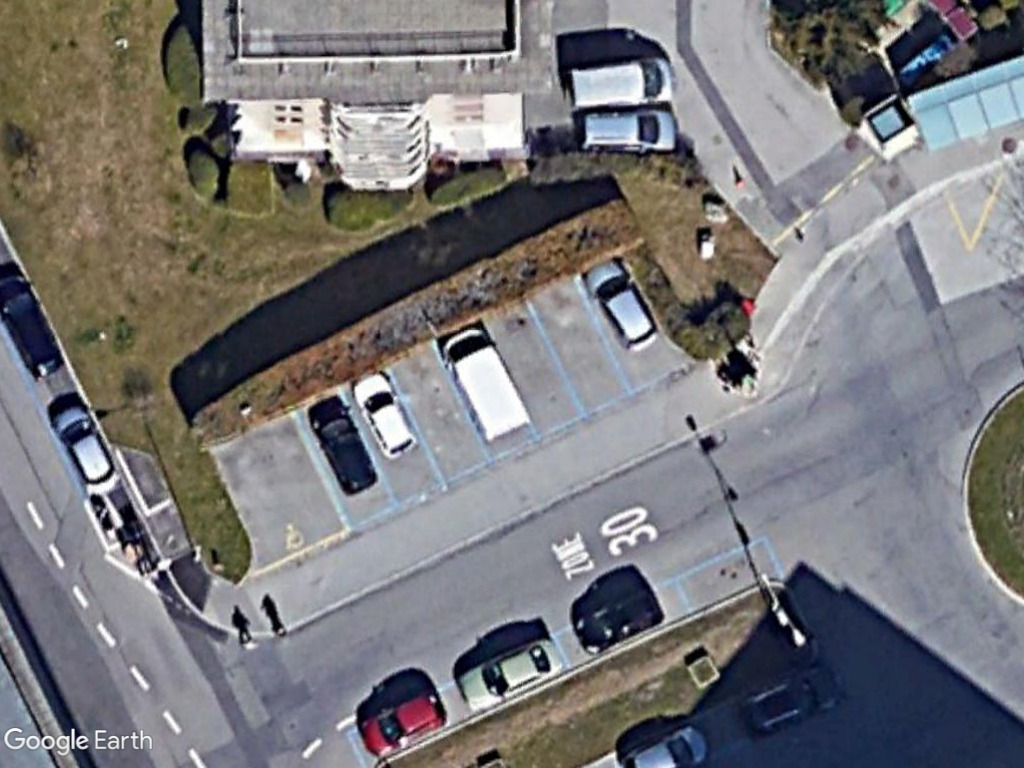car: (459, 635, 560, 715), (582, 257, 658, 352), (308, 403, 380, 497), (49, 406, 119, 495), (362, 688, 445, 760), (352, 374, 418, 459)
van: (436, 327, 530, 443), (566, 56, 673, 112), (579, 109, 677, 153)
